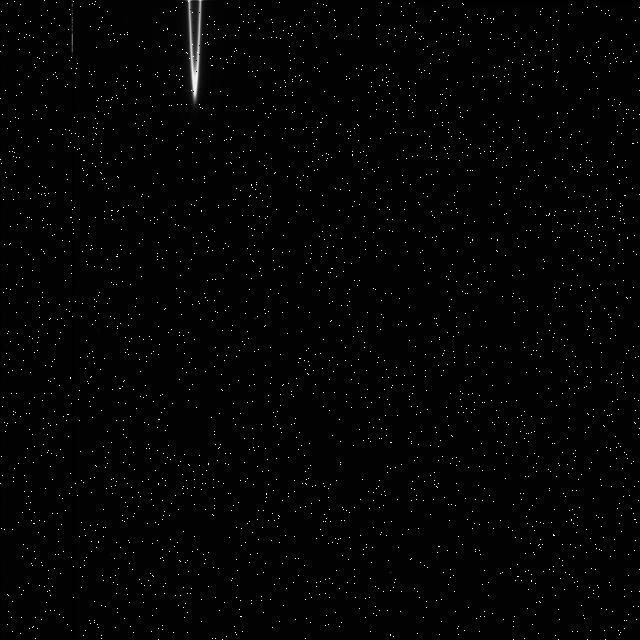Saturn: (182, 0, 206, 107)
